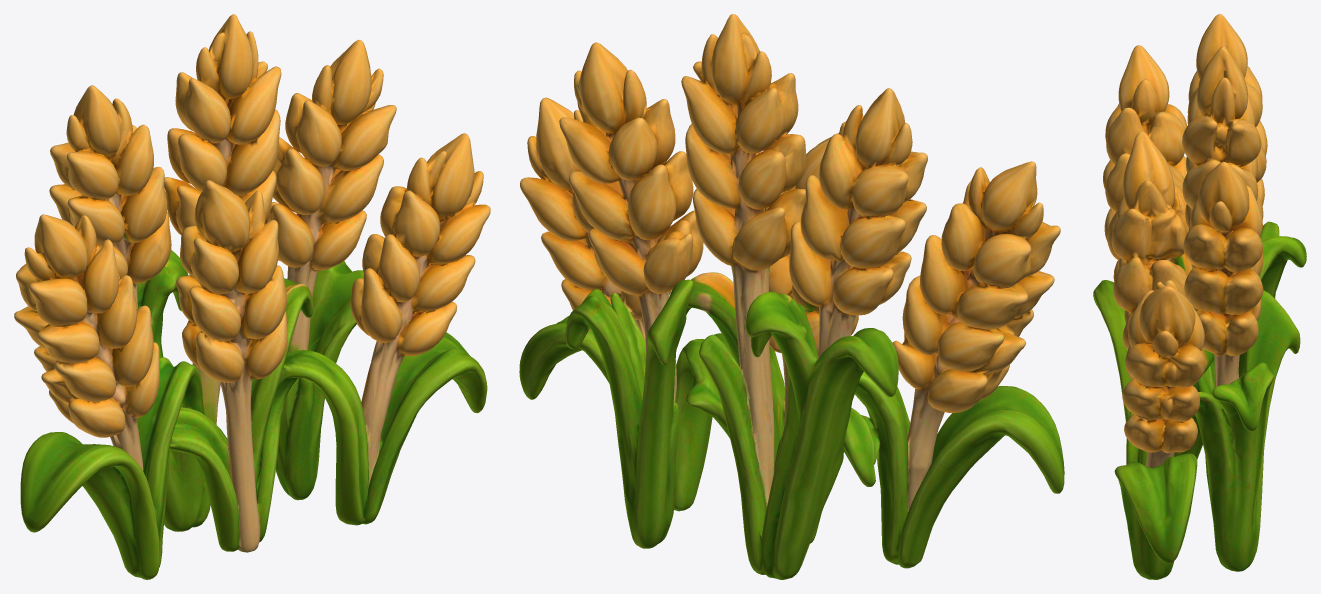
Rendered from wheat-mature.glb.
The picture shows the model from 3 angles, left to right: view 1: azimuth 30°, elevation 25°; view 2: azimuth 150°, elevation 25°; view 3: azimuth 270°, elevation 25°; orthographic projection. The views are drawn at different scales.
Bounding box in the file's own units: 1.9 × 1.9 × 0.7578.
Materials: 1 (1 with a texture image).
